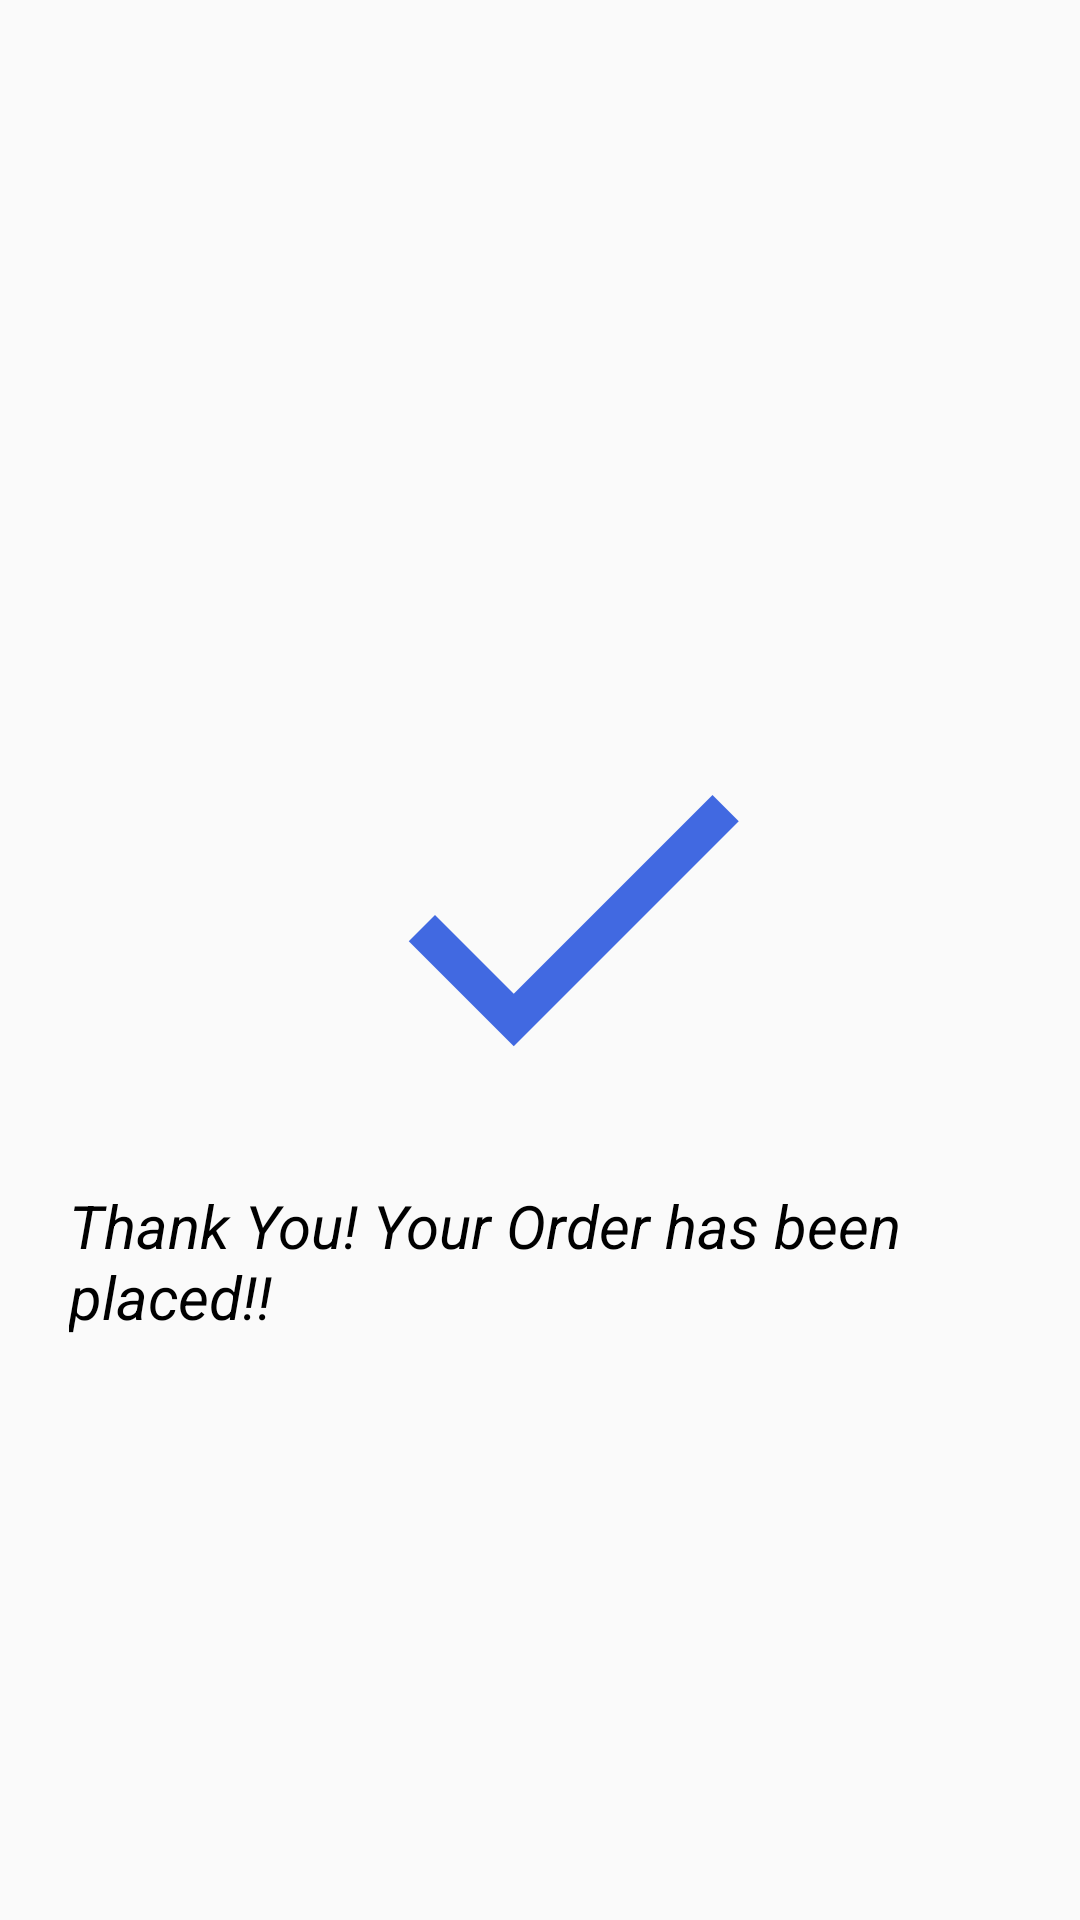

Screen size 1080×1920. Icon name, then its box in pixels as (x1, y1, x2, y2):
done: (409, 795, 739, 1046)
